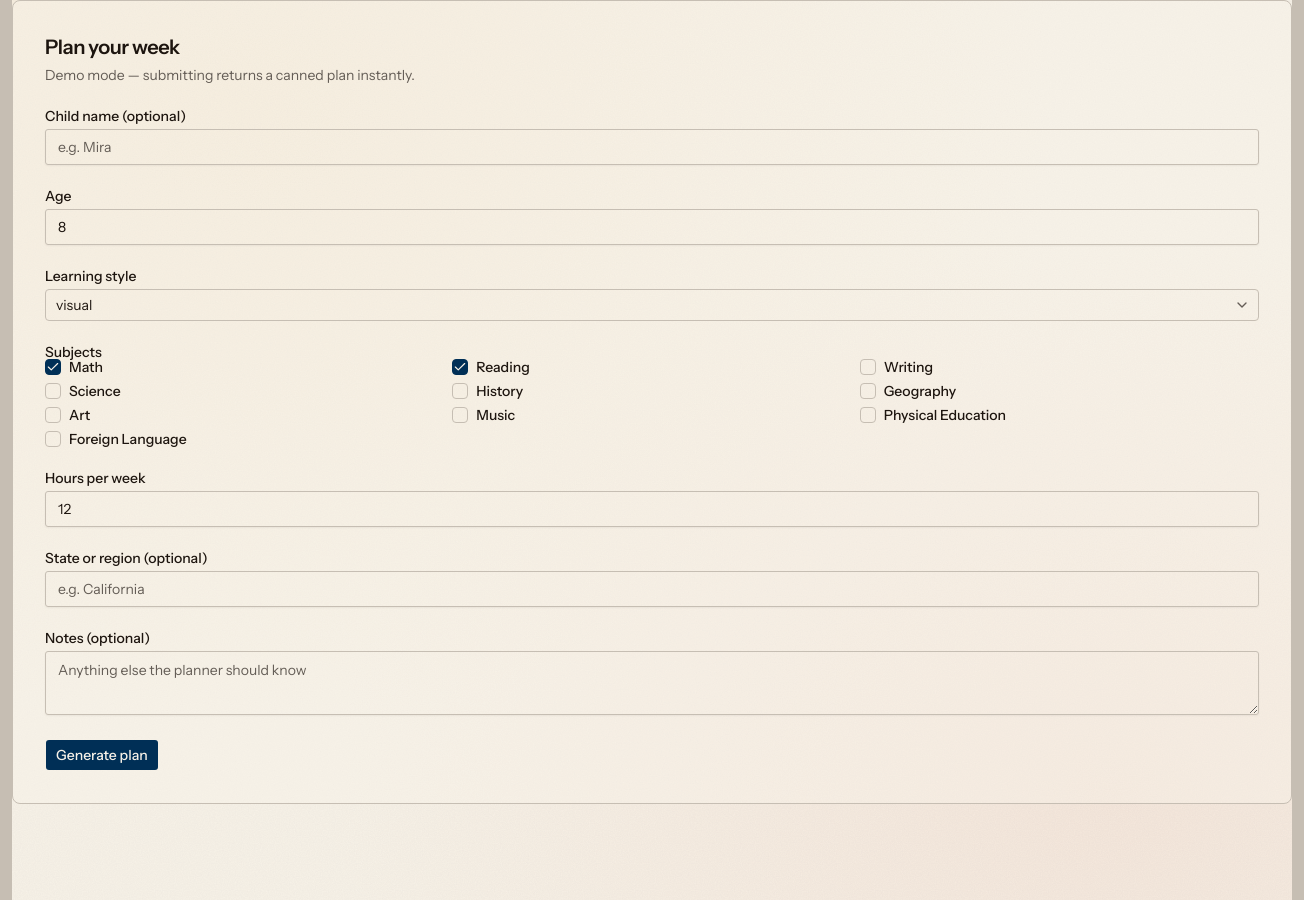
ClassMapFlow — save integration › Save button starts as 'Saved' (disabled) when the just-generated plan id is already in storage
Click the button "Generate plan" at (102, 755), box [45,739,159,771]
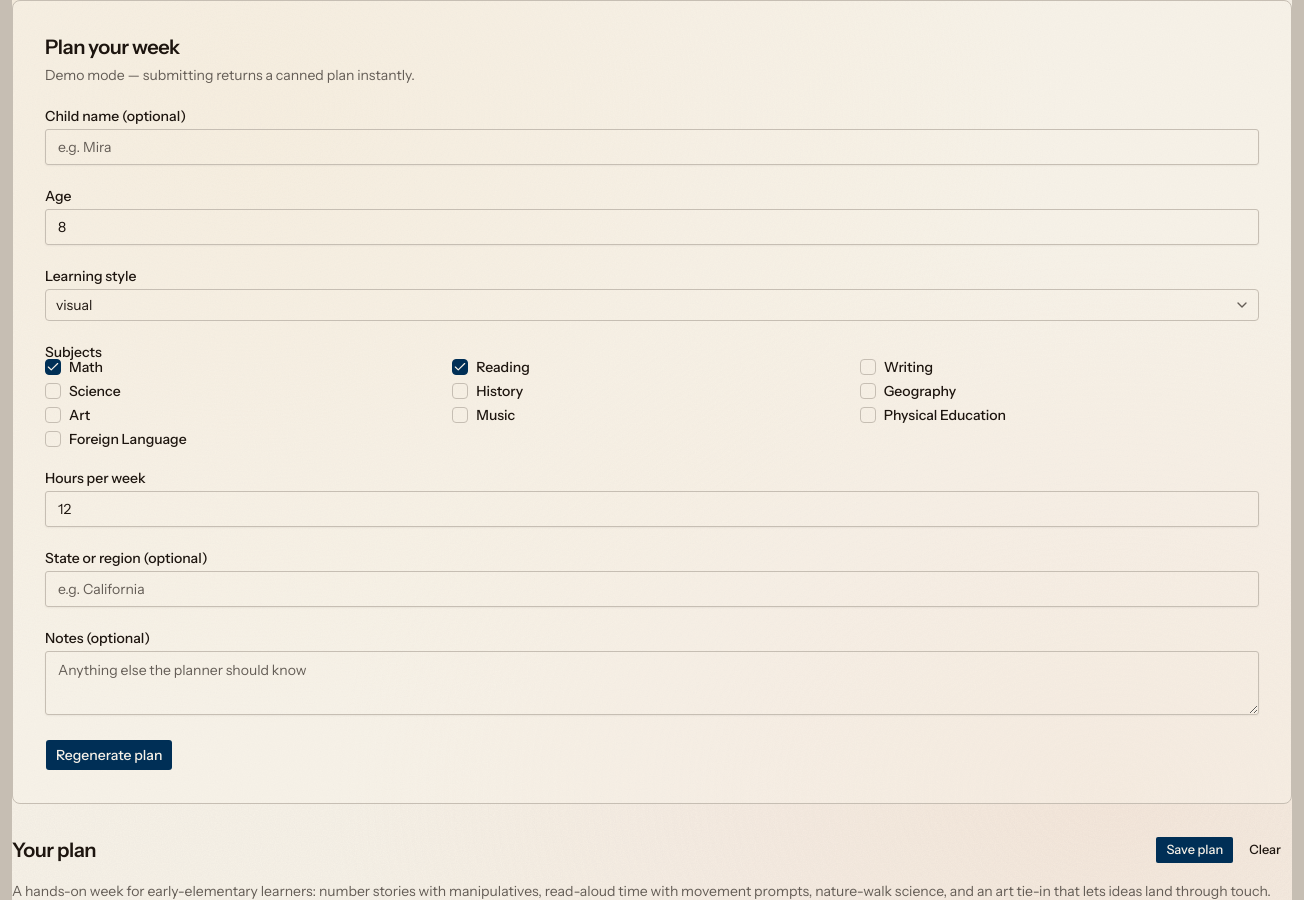
Click the button with test id "classmap-flow-save" at (1195, 850), box [1155,836,1234,864]
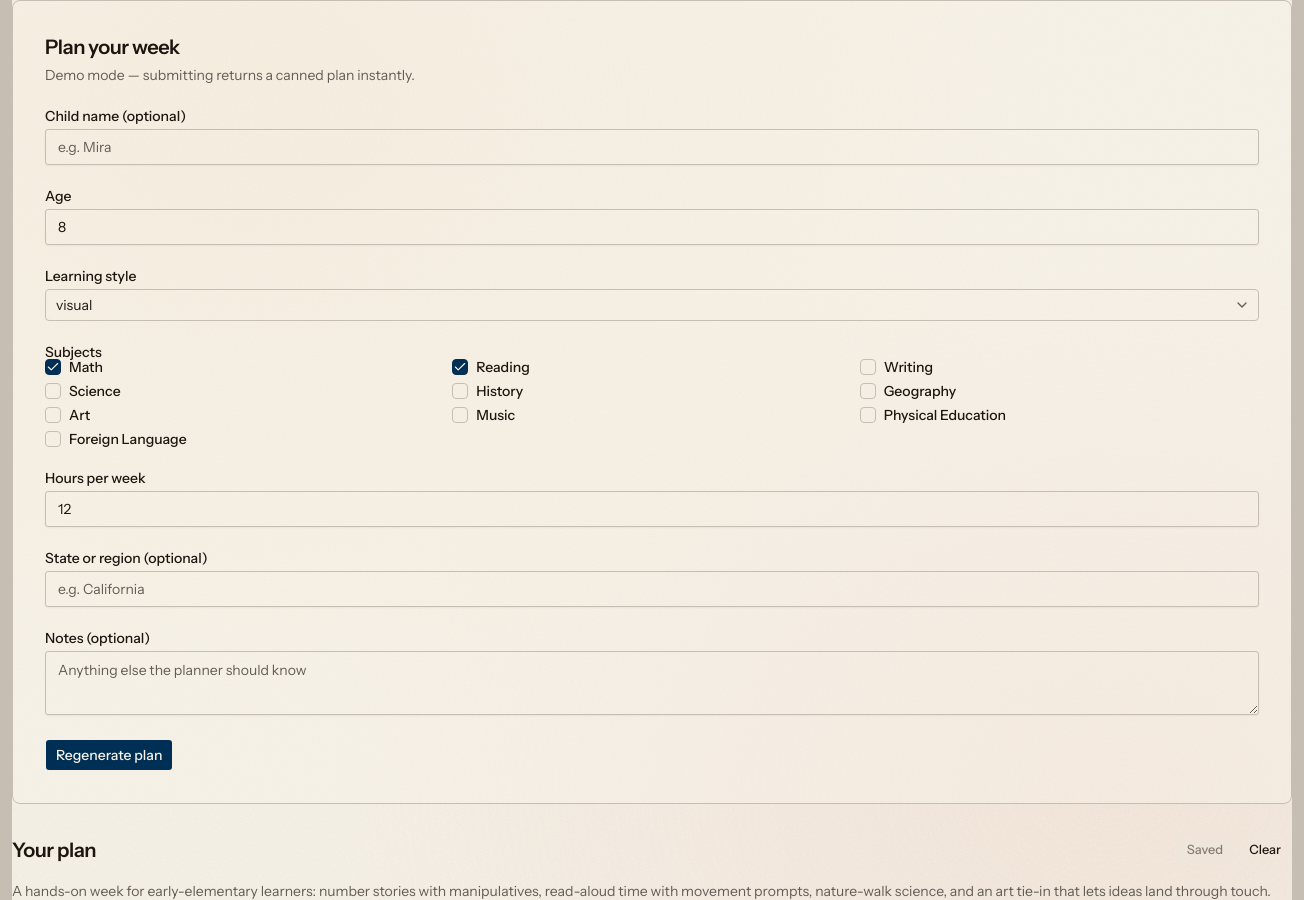
Check: the button with test id "classmap-flow-save" reads "Saved", box [1176,836,1234,864]
Click the button "Clear" at (1265, 850), box [1238,836,1292,864]
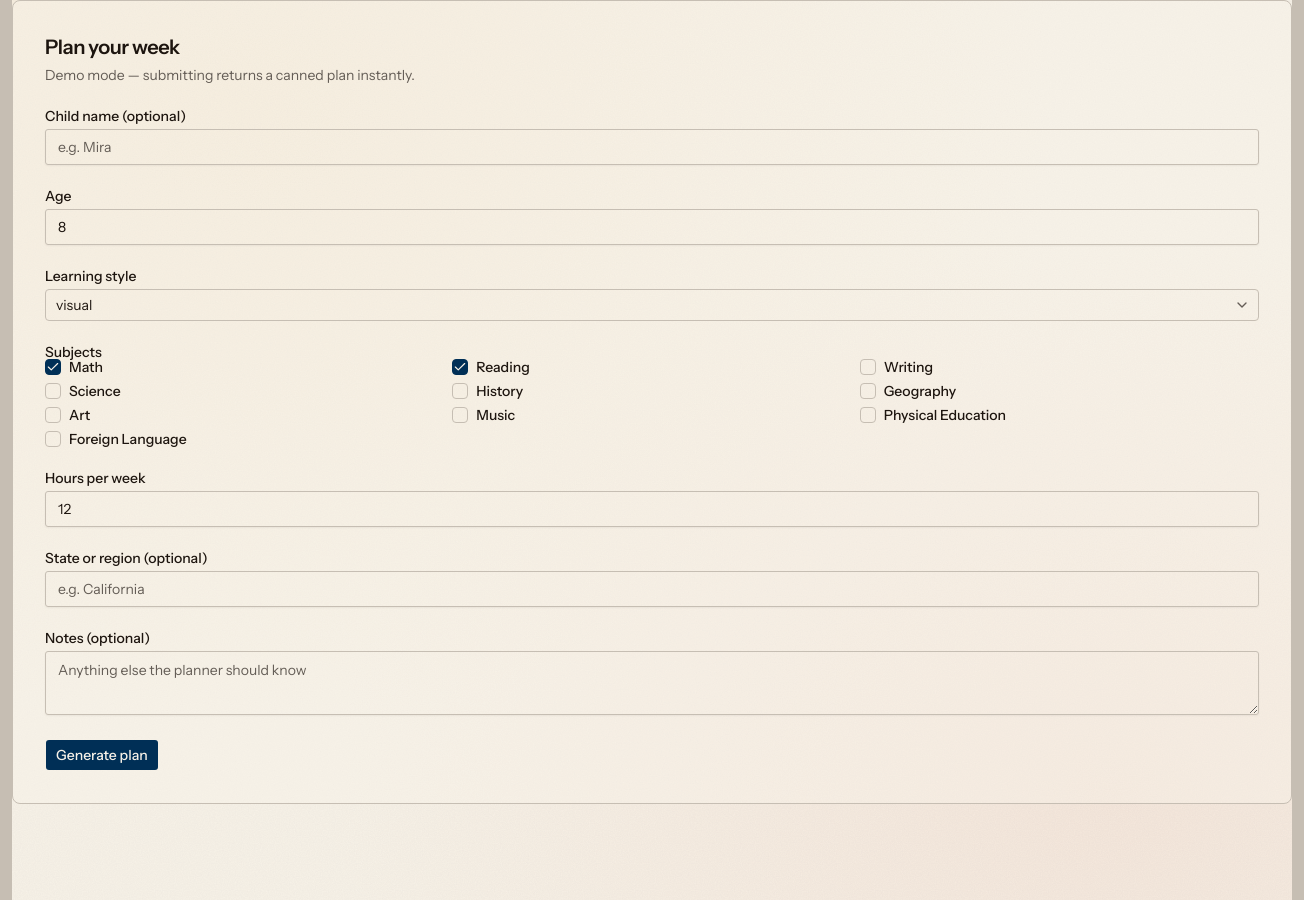
Click the button "Generate plan" at (102, 755), box [45,739,159,771]
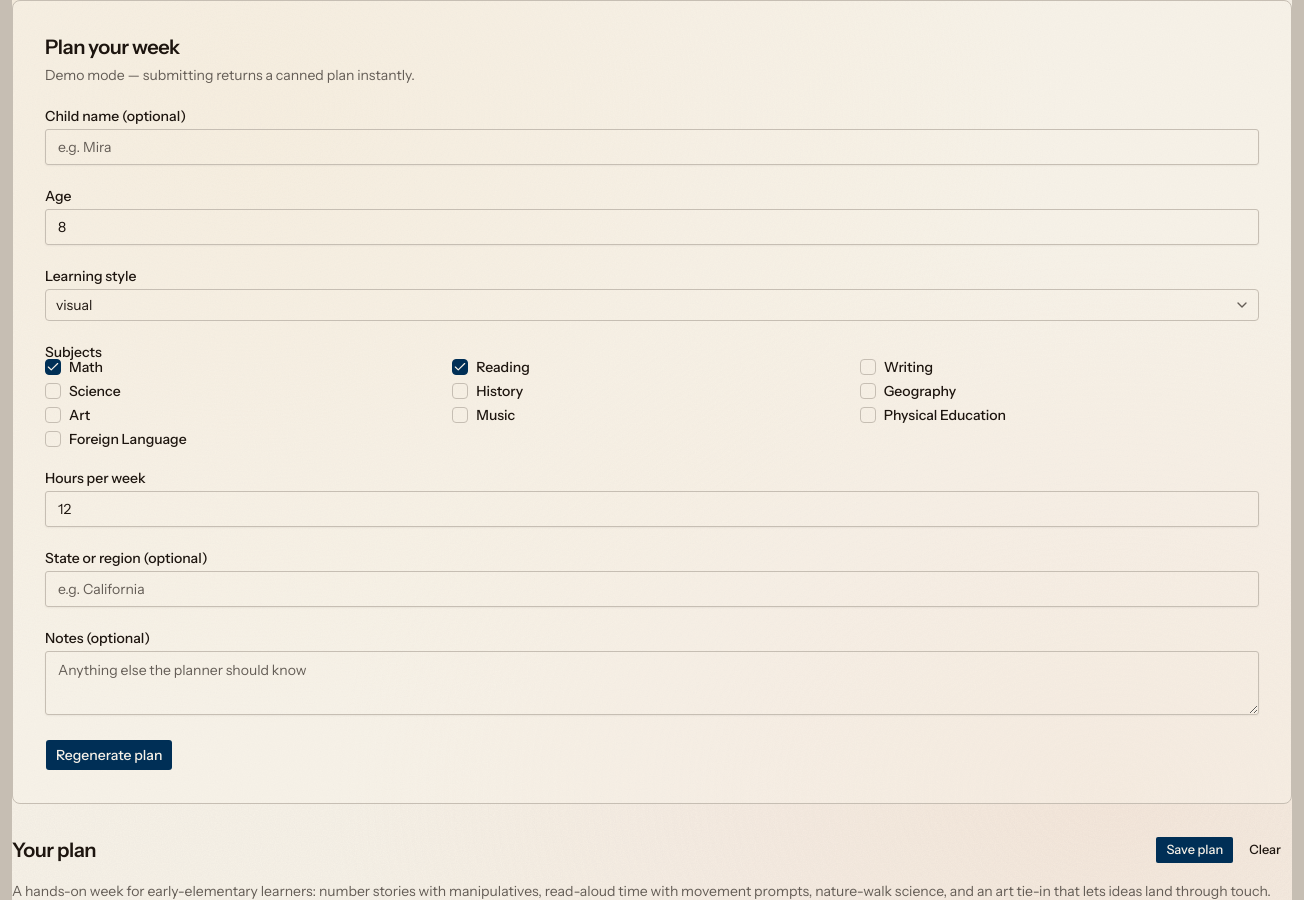
Check: the button with test id "classmap-flow-save" reads "Save plan", box [1155,836,1234,864]
Check: the button with test id "classmap-flow-save" is enabled, box [1155,836,1234,864]
